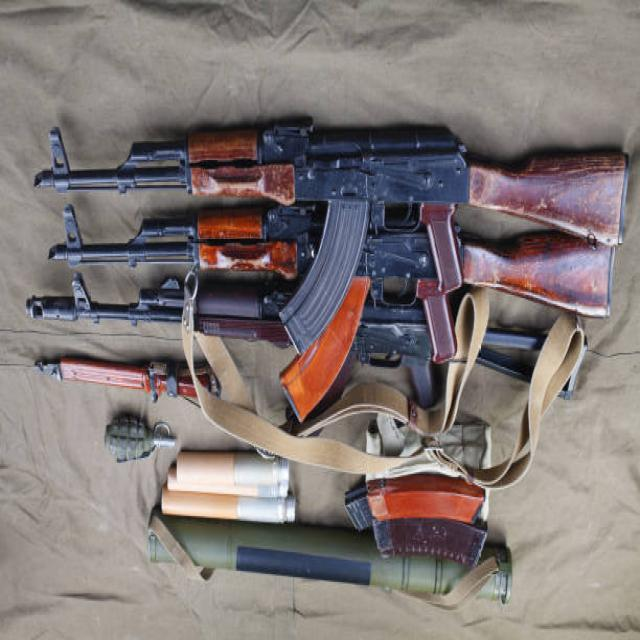grenade: (105, 414, 182, 469)
